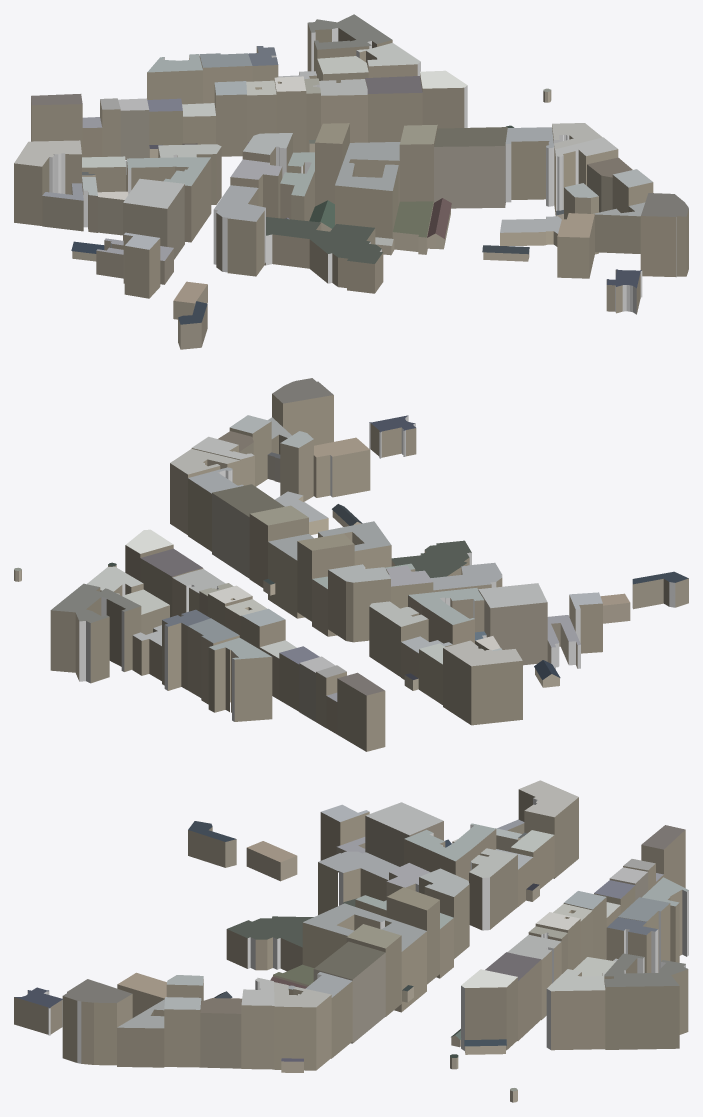
3 renders of one model, top to bottom at view 1: azimuth 30°, elevation 25°; view 2: azimuth 150°, elevation 25°; view 3: azimuth 270°, elevation 25°, orthographic. The views are drawn at different scales.
Parts seen in each view (by area): view 1: tuile; view 2: tuile; view 3: tuile.
Boxes of the visible parts, left/top/right/bottom form: tuile: left=14, top=14, right=688, bottom=349; tuile: left=14, top=378, right=688, bottom=751; tuile: left=14, top=780, right=688, bottom=1102.
Bounding box in the file's own units: 243 × 36.46 × 261.
